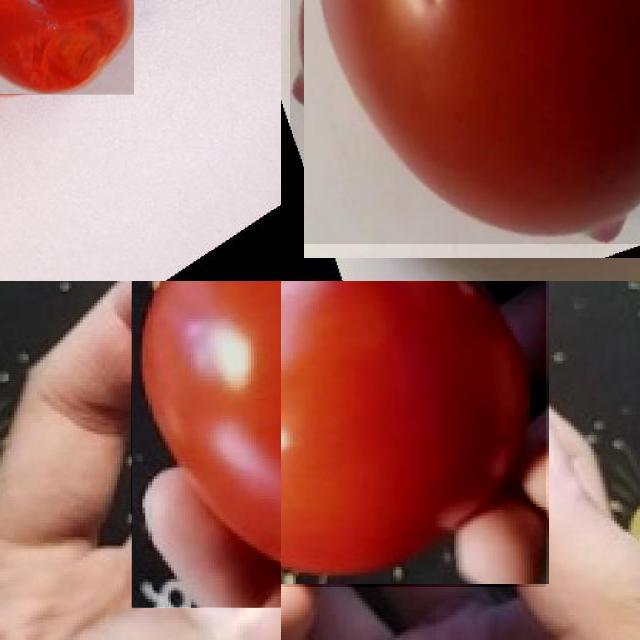Fresh Tomato: (290, 0, 640, 243), (281, 281, 546, 587), (131, 281, 281, 607)
Rotten Tomato: (0, 0, 133, 95)
